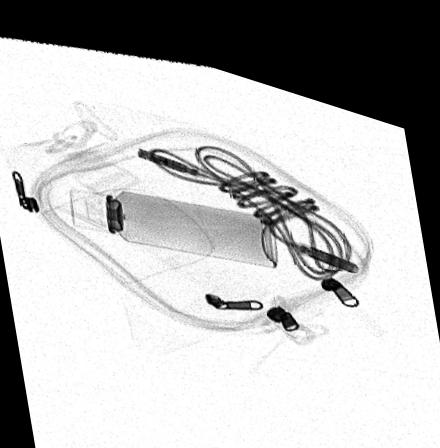Sprayer: (69, 181, 276, 249)
